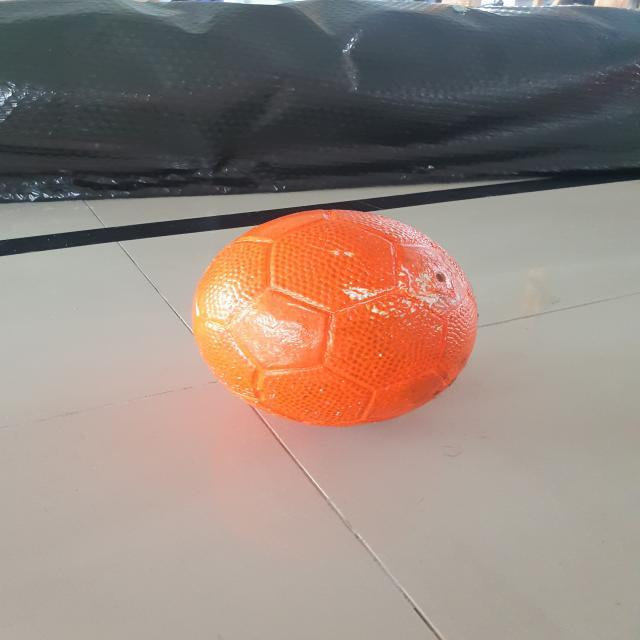bola: (183, 202, 490, 430)
